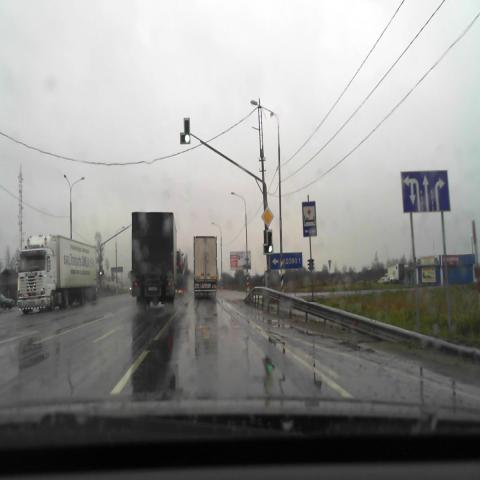7_2: (303, 202, 318, 237)
